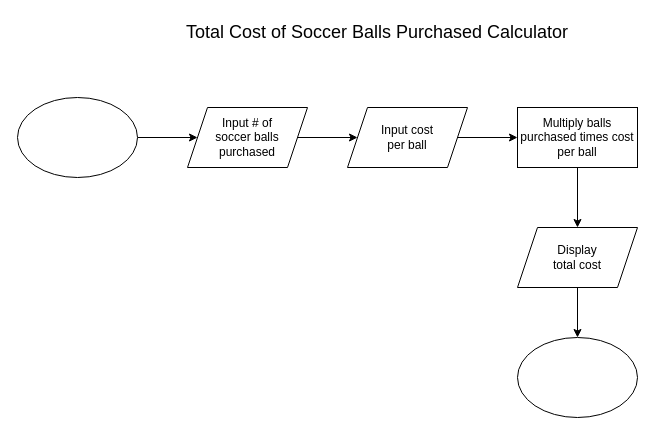
The diagram is 655 pixels wide and 435 high, and some of its shapes have lost their labels. The shapes that lost their labels are listed below. From the top down, each one's centre as x and y in pixels, then its label:
At (x=77, y=137): "Start".
At (x=577, y=377): "End".
